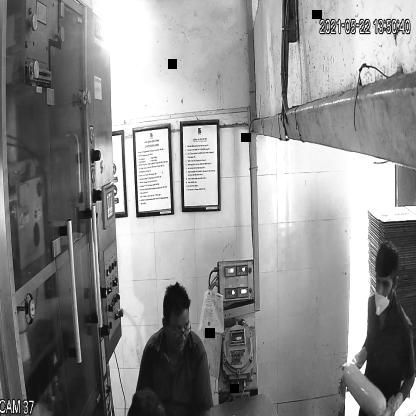goggles: (164, 318, 192, 343)
no_goggles: (374, 274, 396, 294)
